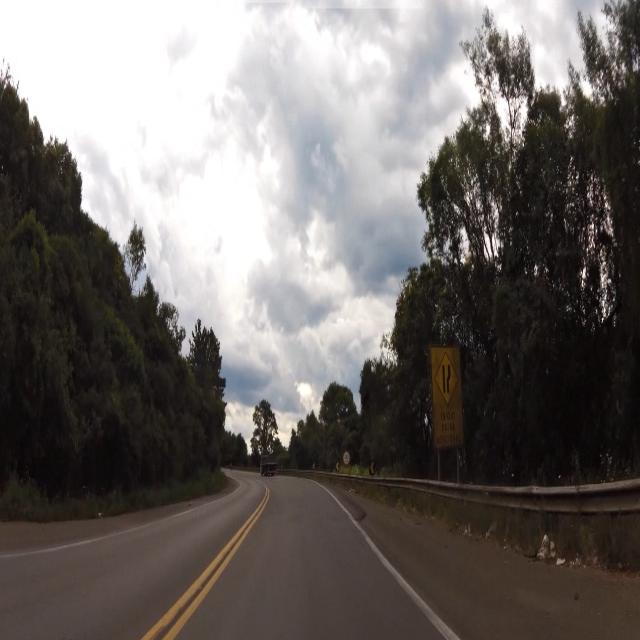A-21e: (434, 348, 460, 409)
